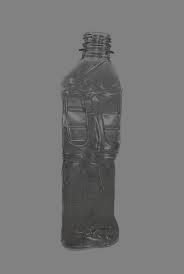Plastic: (55, 15, 126, 256)
